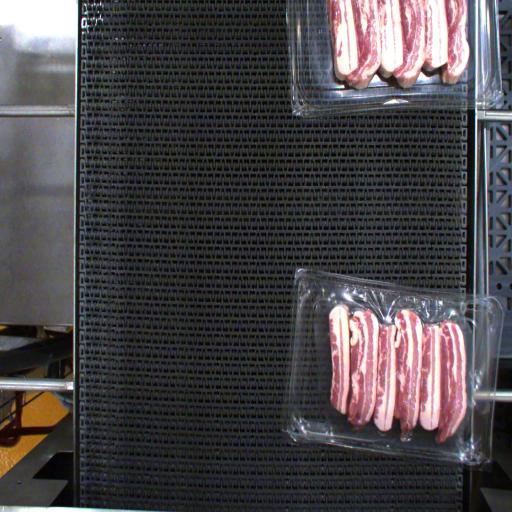unsealed: (292, 293, 497, 437)
